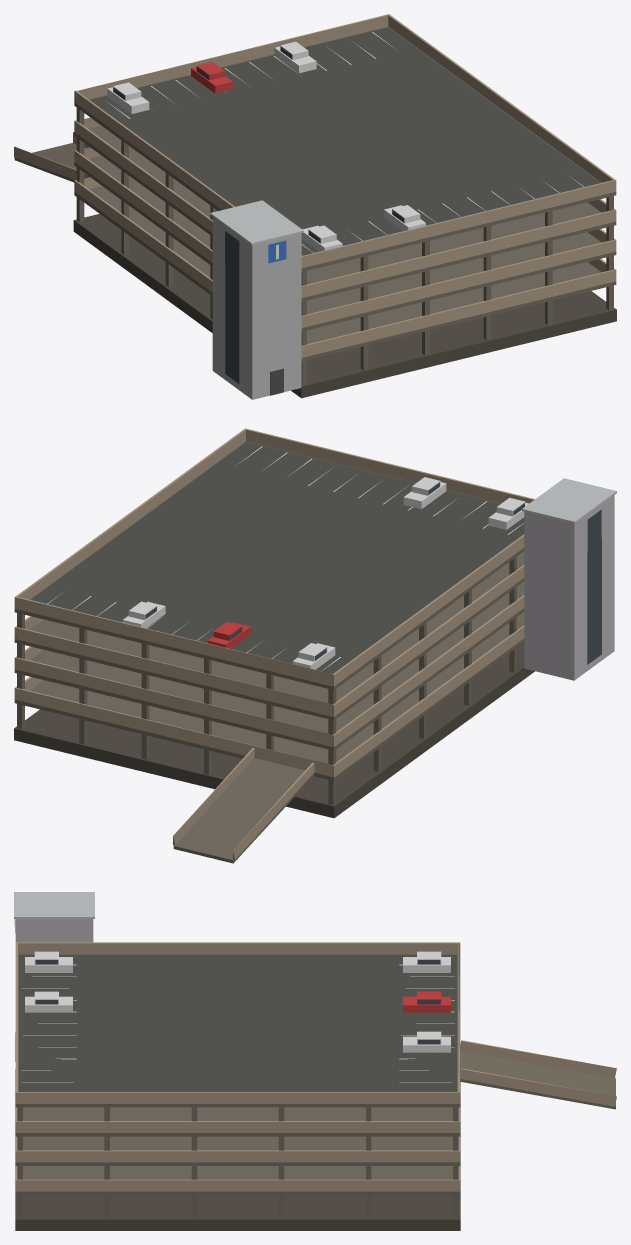
The model's file is parking-garage-lod1.glb.
The picture shows the model from 3 angles, top to bottom: view 1: azimuth 30°, elevation 25°; view 2: azimuth 150°, elevation 25°; view 3: azimuth 270°, elevation 25°; orthographic projection. The views are drawn at different scales.
Parts seen in each view (by area): view 1: parking-garage-plaster0.001; view 2: parking-garage-plaster0.001; view 3: parking-garage-plaster0.001.
Boxes of the visible parts, x1,y1,x2,y2 form: parking-garage-plaster0.001: (14,14,616,399); parking-garage-plaster0.001: (14,428,616,863); parking-garage-plaster0.001: (14,892,616,1230).
Bounding box in the file's own units: 37.19 × 16.29 × 54.25.
